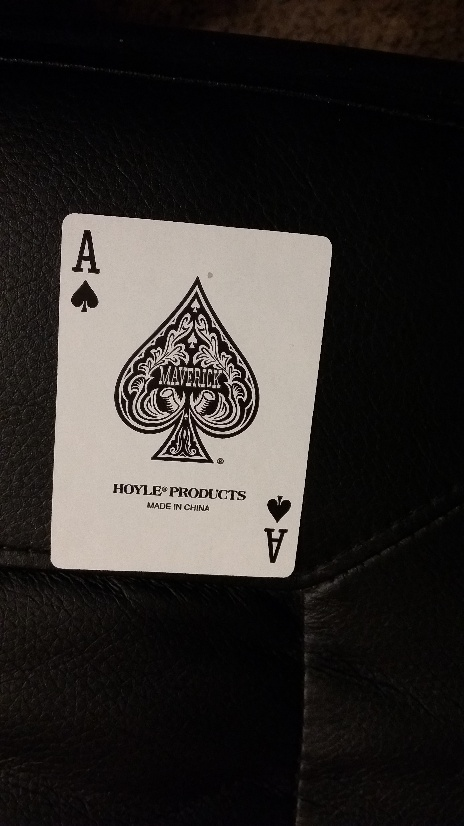Sa: (66, 222, 104, 316), (259, 486, 291, 567)
